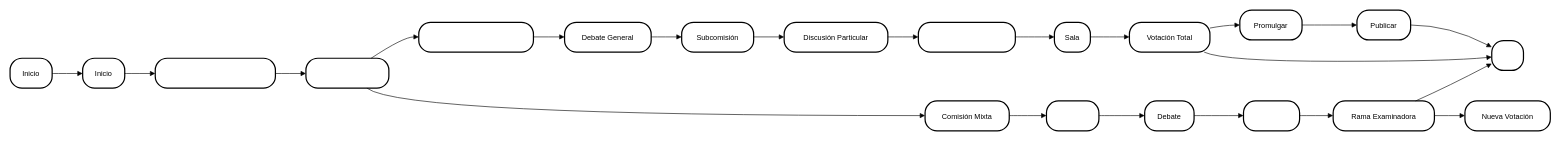
Some shapes in this 1560 by 141 pixel diagram are drawn without their labels. Here are the shapes that lost their labels. From the top down, the centre of each, then its label:
At (476,36): "Comisión Constitución".
At (966,36): "Votación Artículos".
At (1507,55): "Fin".
At (215,72): "Reforma Constitucional".
At (347,72): "Envío Proyecto".
At (1072,115): "Informe".
At (1271,115): "Votación".
